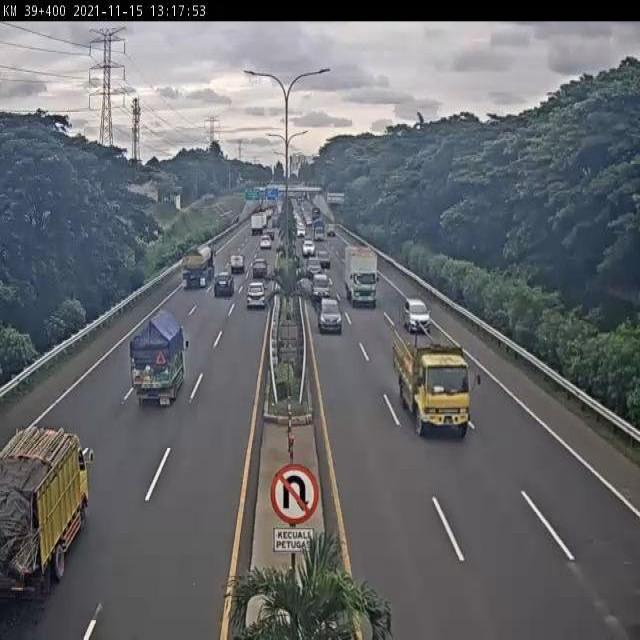car: (402, 297, 432, 335), (317, 295, 344, 336), (212, 269, 236, 300), (245, 280, 268, 312), (310, 274, 331, 302), (250, 256, 270, 279)
truck-m-: (0, 423, 90, 605), (394, 333, 472, 439), (130, 311, 186, 409), (342, 246, 379, 310)
truck-xl-: (181, 244, 215, 289)
